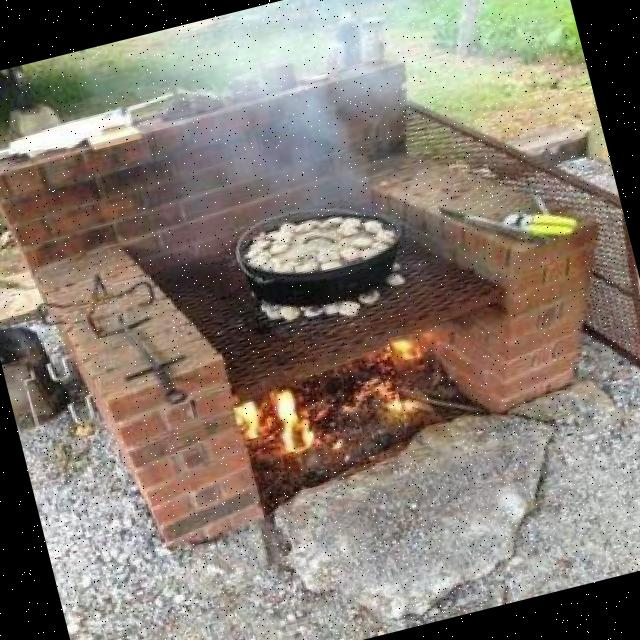fire: (264, 371, 316, 454), (223, 382, 268, 442), (387, 331, 425, 376)
